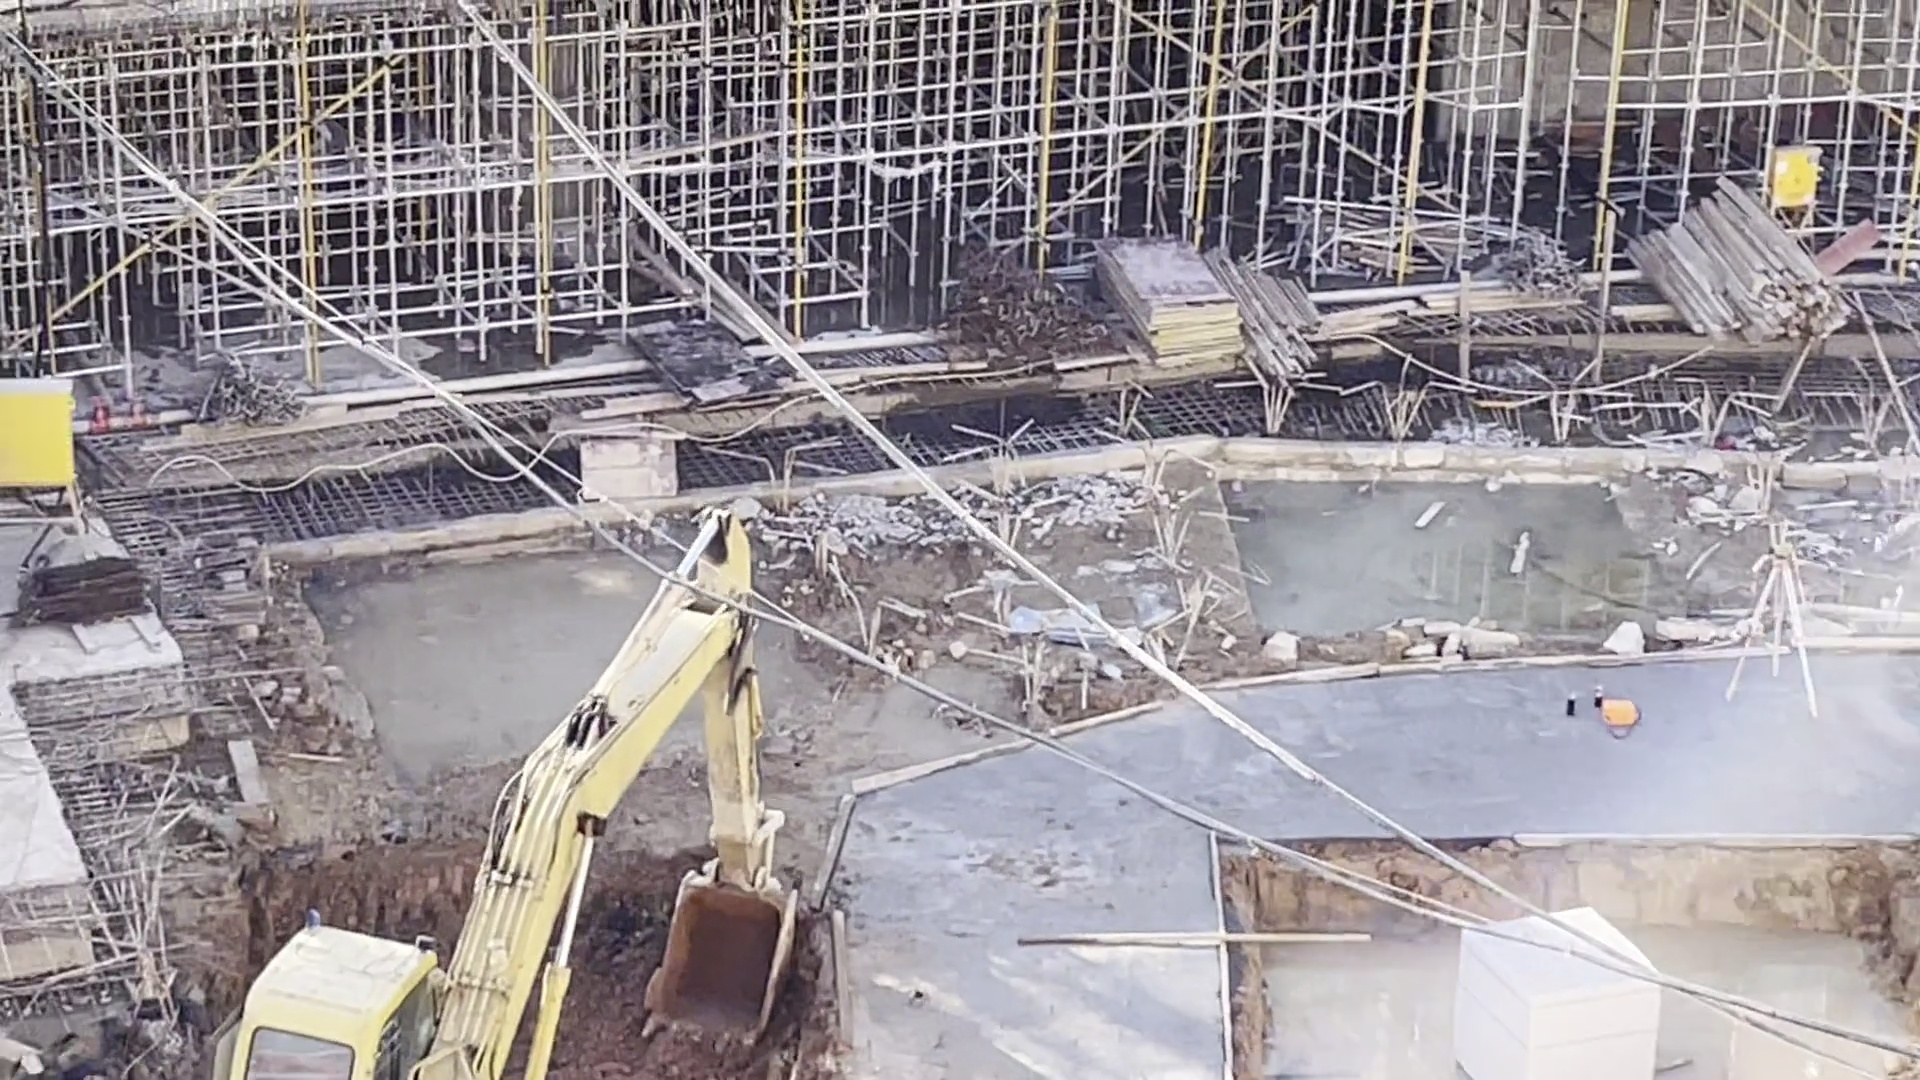board: (1089, 233, 1247, 369)
brick: (1443, 949, 1658, 1080)
ebox: (1, 372, 104, 560), (1758, 131, 1821, 223)
wood: (1626, 171, 1870, 352)
